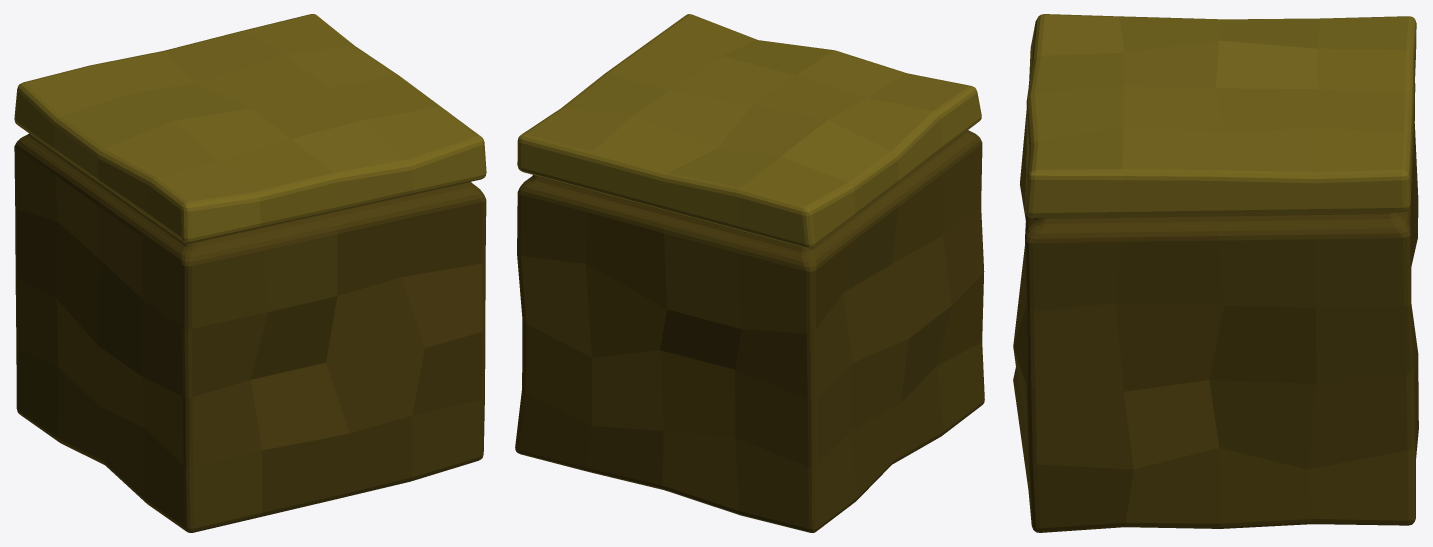
Rendered from Dirt_001.fbx.
The picture shows the model from 3 angles, left to right: view 1: azimuth 30°, elevation 25°; view 2: azimuth 150°, elevation 25°; view 3: azimuth 270°, elevation 25°; orthographic projection. The views are drawn at different scales.
Parts seen in each view (by area): view 1: Dirt_001; view 2: Dirt_001; view 3: Dirt_001.
Boxes of the visible parts, bbox=[...] form: Dirt_001: bbox=[14, 14, 486, 532]; Dirt_001: bbox=[515, 14, 984, 532]; Dirt_001: bbox=[1013, 14, 1418, 532].
Bounding box in the file's own units: 209 × 215 × 210.
Materials: 1 (1 with a texture image).
